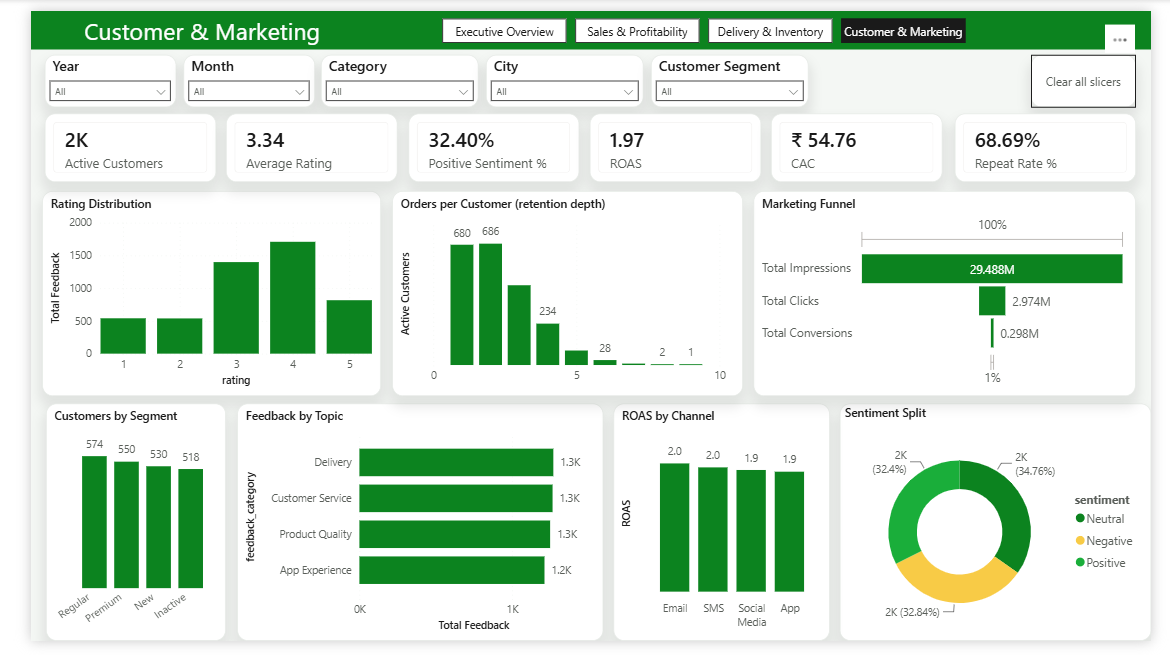

This screenshot's page, from the dashboard's own definition file:
{"tool":"powerbi","page":{"name":"Customer & Marketing","canvas":[1280,720],"ordinal":3},"visuals":[{"type":"columnChart","title":"Rating Distribution","fields":{"Y":["Measure Table.Total Feedback"],"Category":["Customer Feedback.rating"]},"box":[12.9,205.7,387.1,234.3],"z":0},{"type":"donutChart","title":"Sentiment Split","fields":{"Y":["Measure Table.Total Feedback"],"Category":["Customer Feedback.sentiment"]},"box":[924.3,448.6,355.7,271.4],"z":1000},{"type":"columnChart","title":"Customers by Segment","fields":{"Category":["Customers.customer_segment"],"Y":["Measure Table.Active Customers"]},"box":[17.1,448.6,205.7,271.4],"z":2000},{"type":"clusteredBarChart","title":"Feedback by Topic","fields":{"Category":["Customer Feedback.feedback_category"],"Y":["Measure Table.Total Feedback"]},"box":[235.7,448.6,418.6,271.4],"z":3000},{"type":"slicer","title":"Year","fields":{"Values":["Date.Year"]},"box":[15.7,50,150,60],"z":4000},{"type":"slicer","fields":{"Values":["Date.Month Name"]},"box":[174,50,150,60],"z":5000},{"type":"slicer","fields":{"Values":["Products.category"]},"box":[332,50,180,60],"z":6000},{"type":"slicer","title":"Filter by City","fields":{"Values":["Customers.area"]},"box":[520,50,180,60],"z":7000},{"type":"textbox","box":[0,0,1280,44],"z":8000},{"type":"textbox","box":[16,0,360,55.7],"z":9000},{"type":"pageNavigator","box":[470,8,600,28.6],"z":10000},{"type":"slicer","title":"Filter by City","fields":{"Values":["Customers.customer_segment"]},"box":[708,50,180,60],"z":11000},{"type":"actionButton","box":[1142.5,50,120,60],"z":12000},{"type":"cardVisual","fields":{"Data":["Measure Table.Active Customers"]},"box":[15,117,196.2,78],"z":13000},{"type":"cardVisual","fields":{"Data":["Measure Table.Average Rating"]},"box":[222.5,117,196.2,78],"z":14000},{"type":"cardVisual","fields":{"Data":["Measure Table.Positive Sentiment %"]},"box":[431.2,117,195,78],"z":15000},{"type":"cardVisual","fields":{"Data":["Marketing Measure Table.ROAS"]},"box":[638.8,117,196.2,78],"z":16000},{"type":"cardVisual","fields":{"Data":["Measure Table.CAC"]},"box":[846.2,117,196.2,78],"z":17000},{"type":"cardVisual","fields":{"Data":["Measure Table.Repeat Rate %"]},"box":[1055.7,117.1,207.1,78.6],"z":18000},{"type":"columnChart","title":"ROAS by Channel","fields":{"Category":["Marketing Performance.channel"],"Y":["Marketing Measure Table.ROAS"]},"box":[665.7,448.6,247.1,271.4],"z":19000},{"type":"funnel","title":"Marketing Funnel","fields":{"Y":["Marketing Measure Table.Total Impressions","Marketing Measure Table.Total Clicks","Marketing Measure Table.Total Conversions"]},"box":[825.7,205.7,437.1,234.3],"z":20000},{"type":"columnChart","title":"Orders per Customer (retention depth)","fields":{"Y":["Measure Table.Active Customers"],"Category":["Customers.Order Count"]},"box":[412.9,205.7,400.7,234.3],"z":21000}]}

Visuals, with their boxes in screenshot pixels (x1, y1, x2, y2), scaled from the page's 1280x720 canvas onto the 1170x655 screenshot:
"Rating Distribution" columnChart: 12 187 366 400
"Sentiment Split" donutChart: 845 408 1169 654
"Customers by Segment" columnChart: 16 408 204 654
"Feedback by Topic" clusteredBarChart: 215 408 598 654
"Year" slicer: 14 45 151 100
slicer - Date.Month Name: 159 45 296 100
slicer - Products.category: 303 45 468 100
"Filter by City" slicer: 475 45 640 100
textbox: 0 0 1169 40
textbox: 15 0 344 51
pageNavigator: 430 7 978 33
"Filter by City" slicer: 647 45 812 100
actionButton: 1044 45 1154 100
cardVisual - Measure Table.Active Customers: 14 106 193 177
cardVisual - Measure Table.Average Rating: 203 106 383 177
cardVisual - Measure Table.Positive Sentiment %: 394 106 572 177
cardVisual - Marketing Measure Table.ROAS: 584 106 763 177
cardVisual - Measure Table.CAC: 773 106 953 177
cardVisual - Measure Table.Repeat Rate %: 965 107 1154 178
"ROAS by Channel" columnChart: 608 408 834 654
"Marketing Funnel" funnel: 755 187 1154 400
"Orders per Customer (retention depth)" columnChart: 377 187 744 400
